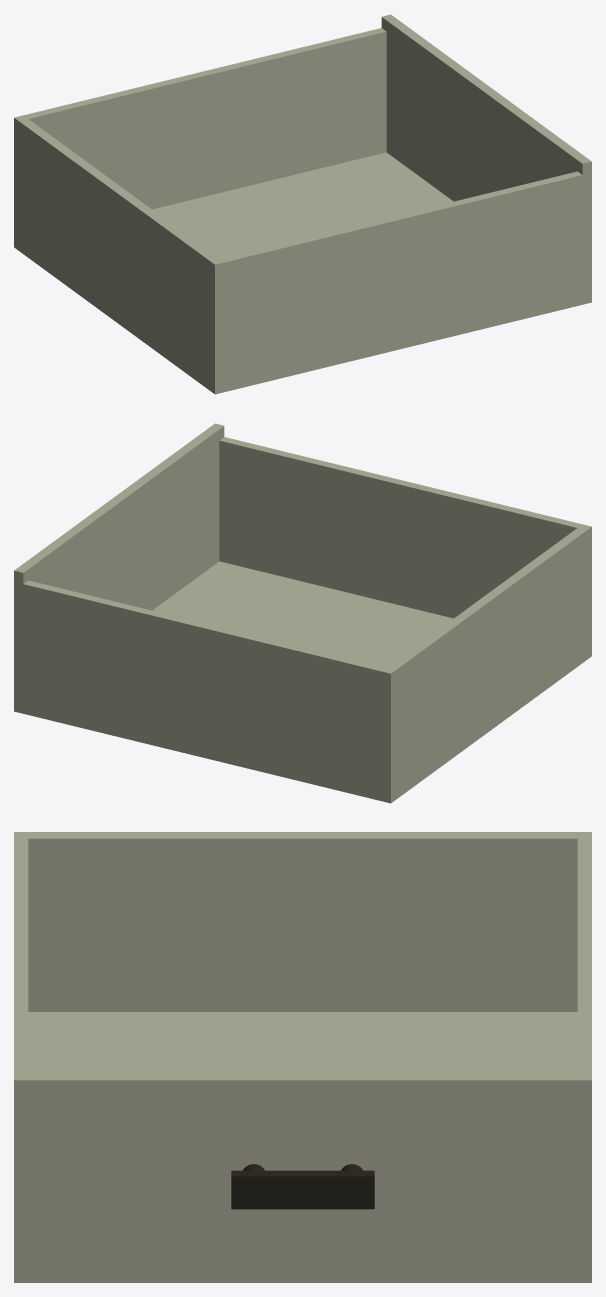
Rendered from Open2DrawerCounter(TopDrawer).fbx.
3 views of the same model, one above another, from view 1: azimuth 30°, elevation 25°; view 2: azimuth 150°, elevation 25°; view 3: azimuth 270°, elevation 25° (orthographic). The views are drawn at different scales.
Visible parts, largest first — view 1: Cube.002; view 2: Cube.002; view 3: Cube.002.
Part boxes in pixels (<box>): Cube.002: <box>14,14,591,394</box>; Cube.002: <box>14,423,591,803</box>; Cube.002: <box>14,832,591,1282</box>.
Bounding box in the file's own units: 471 × 544 × 182.
